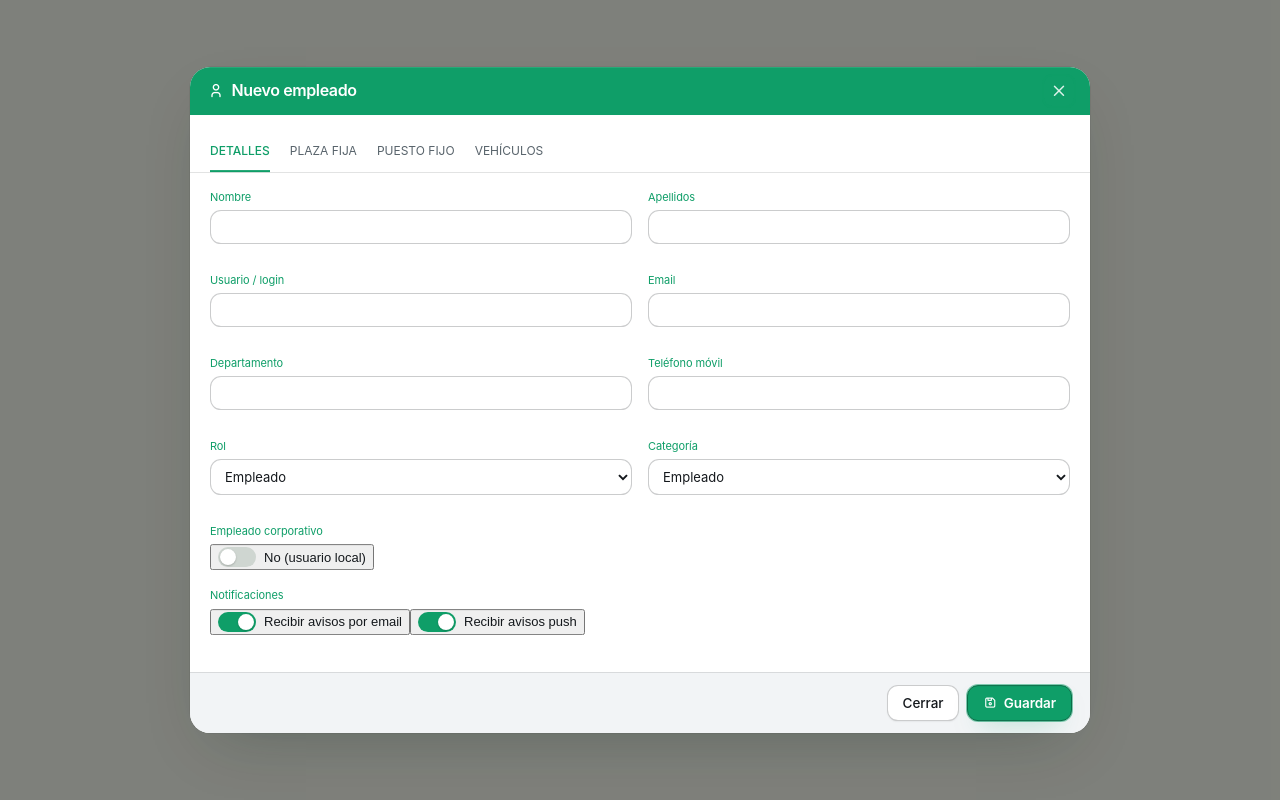
Test: EmployeeFormModal › should_show_email_error_when_create_returns_409_duplicate_email
The image size is (1280, 800).
Step 1. Type "Carol" into the field labelled "Nombre" → [421, 227], box [210,210,632,244]
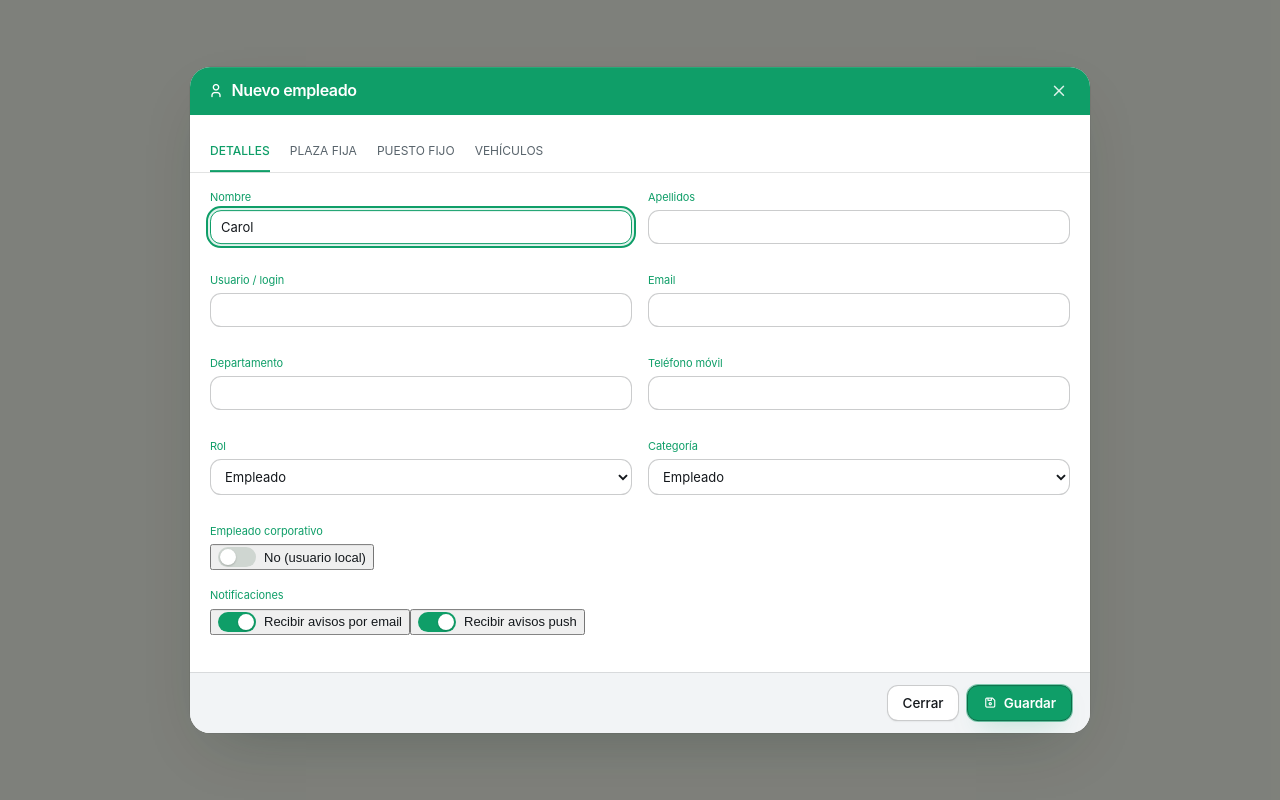
Step 2. Type "Carter" into the field labelled "Apellidos" → [859, 227], box [648,210,1070,244]
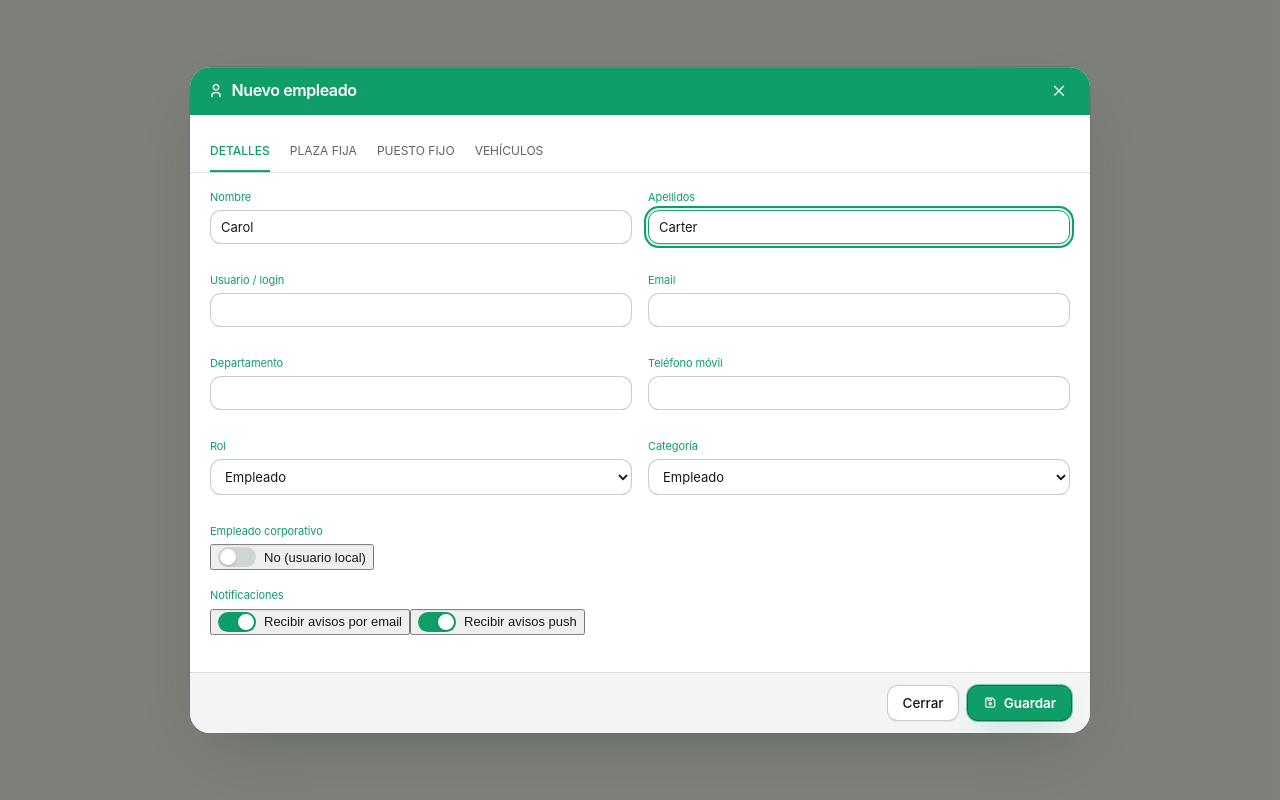
Step 3. Type "ccarter" into the field labelled "Usuario / login" → [421, 310], box [210,293,632,327]
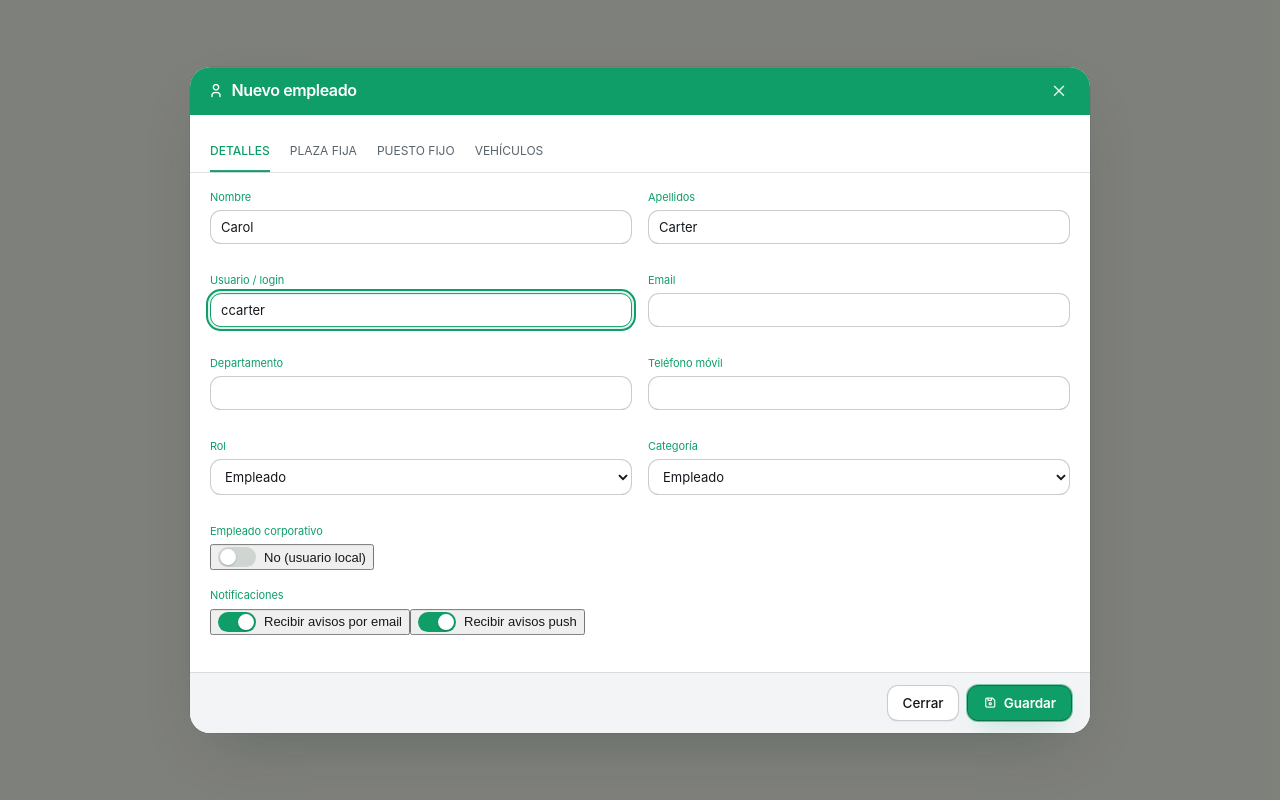
Step 4. Type "carol@aleatica.com" into the field labelled "Email" → [859, 310], box [648,293,1070,327]
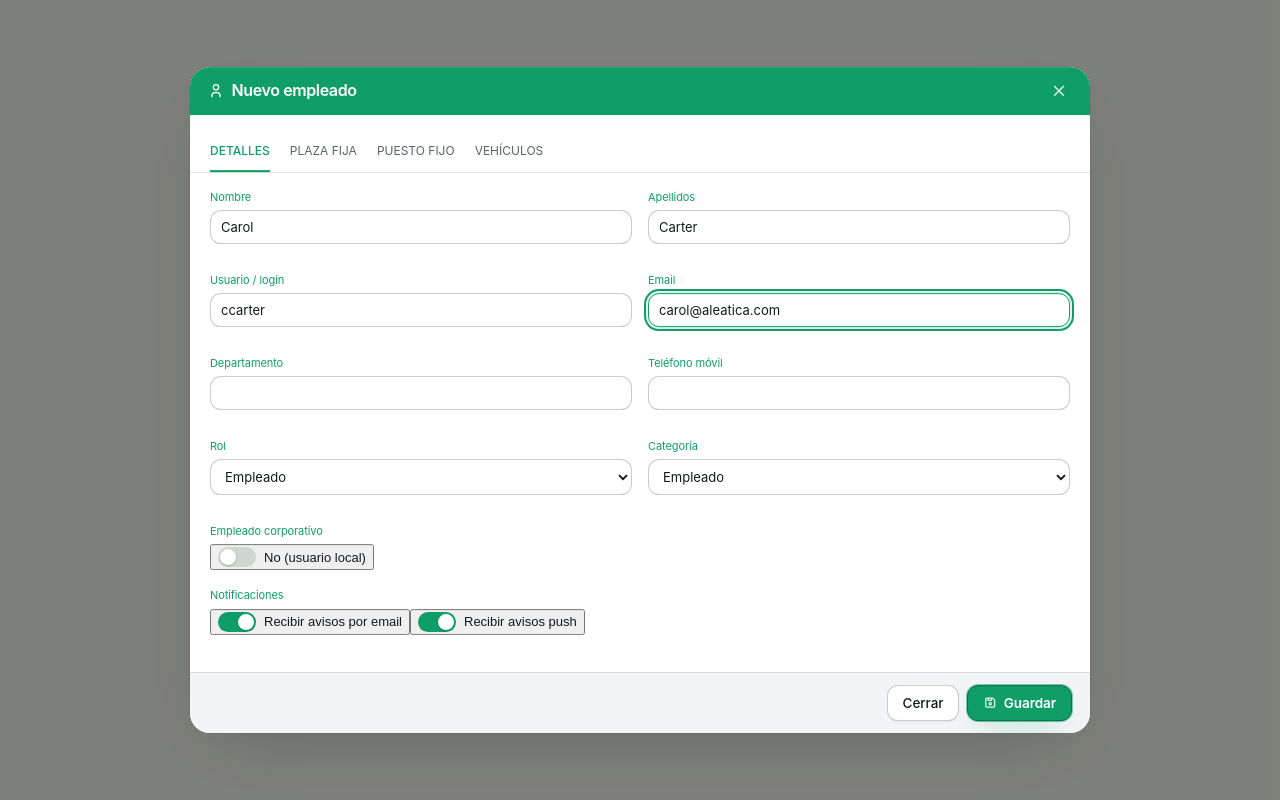
Step 5. Click the button "Guardar" → [1020, 703], box [967,685,1072,721]
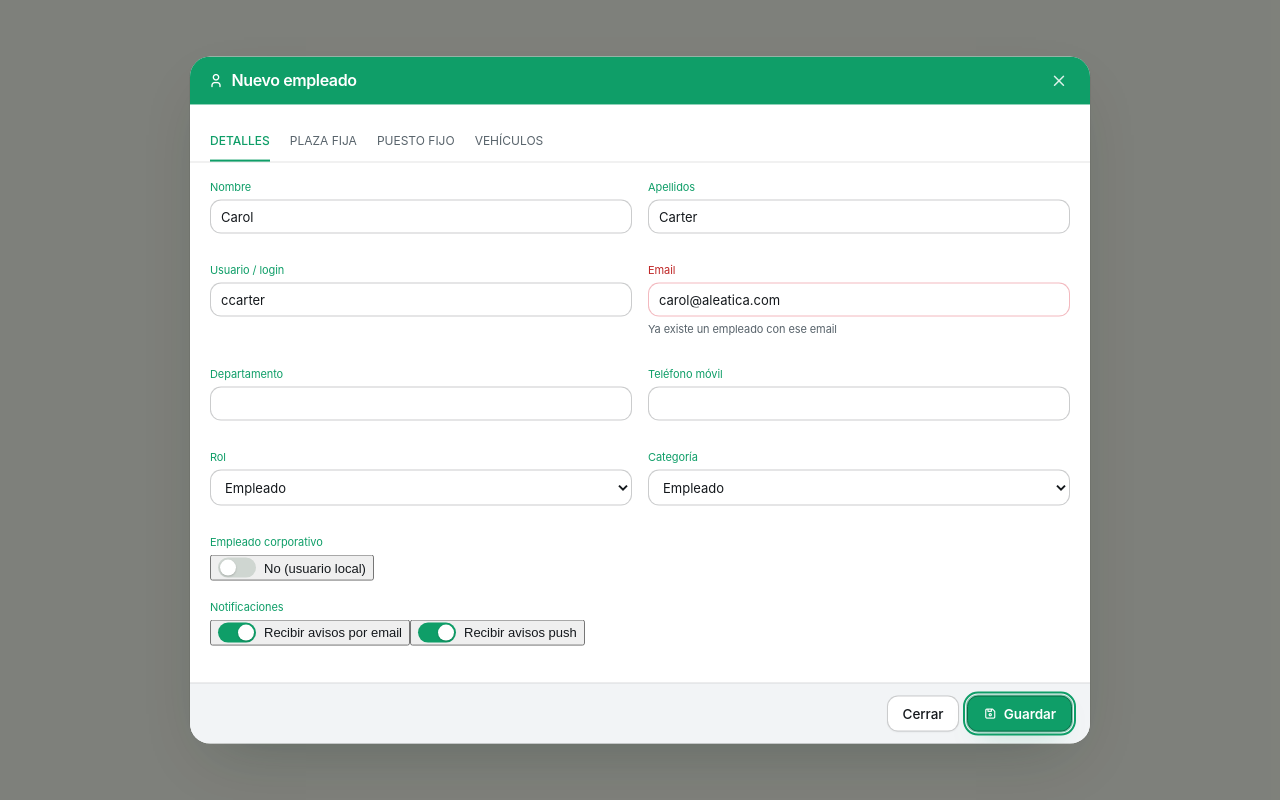
Now the text "Ya existe un empleado con ese email" is shown, box [648,322,837,336]
